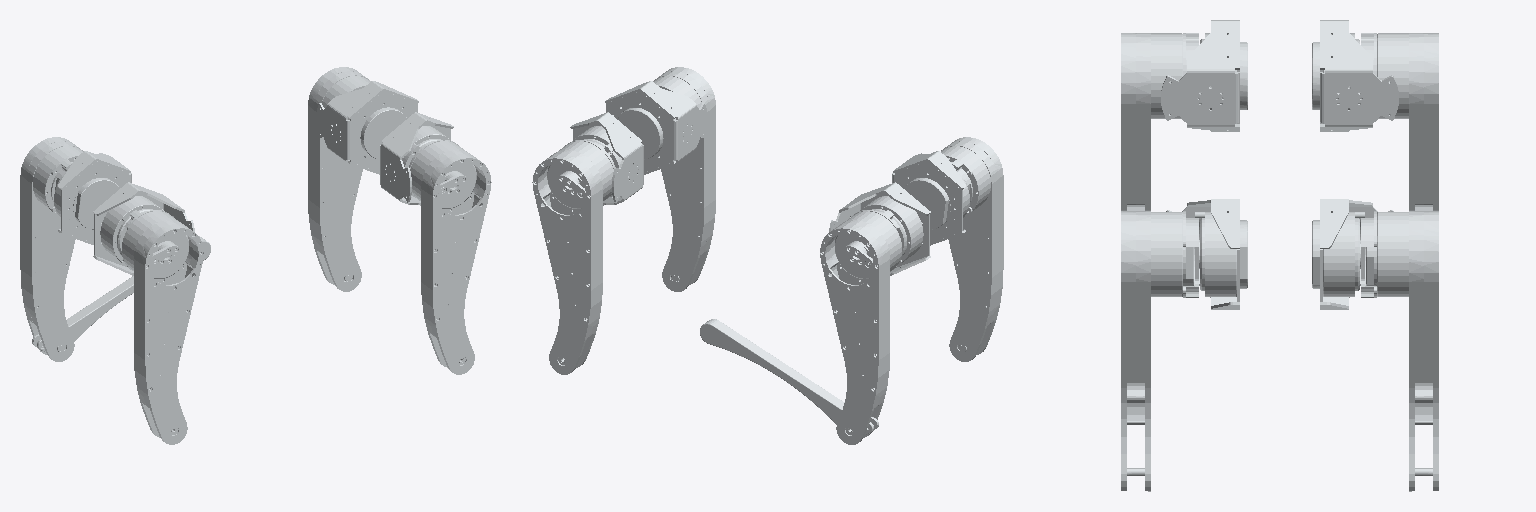
The robot description file, URDF, robot "mevius":
<?xml version="1.0" encoding="utf-8"?>
<!-- This URDF was automatically created by SolidWorks to URDF Exporter! Originally created by [author] ([email redacted]) 
     Commit Version: 1.6.0-1-g15f4949  Build Version: 1.6.7594.29634
     For more information, please see http://wiki.ros.org/sw_urdf_exporter -->
<robot
  name="mevius">
  <link
    name="base_link">
    <inertial>
      <origin
        xyz="-0.00288686344144184 0.00107022785703442 0.0628887711129525"
        rpy="0 0 0" />
      <mass
        value="7.46950563423809" />
      <inertia
        ixx="0.0225470144173874"
        ixy="6.77338278057453E-05"
        ixz="1.3345156658201E-05"
        iyy="0.0141949429794967"
        iyz="-0.000150290491462575"
        izz="0.0262581265108455" />
    </inertial>
    <visual>
      <origin
        xyz="0 0 0"
        rpy="0 0 0" />
      <geometry>
        <mesh
          filename="package://mevius/models/meshes/base_link.STL" />
      </geometry>
      <material
        name="">
        <color
          rgba="0.898039215686275 0.917647058823529 0.929411764705882 1" />
      </material>
    </visual>
    <collision>
      <origin
        xyz="0 0 0"
        rpy="0 0 0" />
      <geometry>
        <mesh
          filename="package://mevius/models/meshes/base_link.STL" />
      </geometry>
    </collision>
  </link>
  <link
    name="FR_scapula_link">
    <inertial>
      <origin
        xyz="0.0516252305401659 0.0119000363955649 0.000134643082608681"
        rpy="0 0 0" />
      <mass
        value="0.79238908220585" />
      <inertia
        ixx="0.000663847662717084"
        ixy="-4.9368919369038E-05"
        ixz="-2.95042745376549E-07"
        iyy="0.000948238273558436"
        iyz="1.97899135325603E-07"
        izz="0.00062428850657169" />
    </inertial>
    <visual>
      <origin
        xyz="0 0 0"
        rpy="0 0 0" />
      <geometry>
        <mesh
          filename="package://mevius/models/meshes/FR_scapula_link.STL" />
      </geometry>
      <material
        name="">
        <color
          rgba="0.898039215686275 0.917647058823529 0.929411764705882 1" />
      </material>
    </visual>
    <collision>
      <origin
        xyz="0 0 0"
        rpy="0 0 0" />
      <geometry>
        <mesh
          filename="package://mevius/models/meshes/FR_scapula_link.STL" />
      </geometry>
    </collision>
  </link>
  <joint
    name="FR_collar"
    type="revolute">
    <origin
      xyz="0.16405000000001 -0.0720000000000002 0.056500000000002"
      rpy="0 0 0" />
    <parent
      link="base_link" />
    <child
      link="FR_scapula_link" />
    <axis
      xyz="1 0 0" />
    <limit
      lower="-0.7854"
      upper="0.7854"
      effort="25"
      velocity="500" />
  </joint>
  <link
    name="FR_thigh_link">
    <inertial>
      <origin
        xyz="-0.00458315732717235 -0.0450237251724228 -0.0462116341919131"
        rpy="0 0 0" />
      <mass
        value="1.28036049228712" />
      <inertia
        ixx="0.00466271860164795"
        ixy="6.08454654912399E-07"
        ixz="-8.7501983148644E-05"
        iyy="0.00514577751083402"
        iyz="-3.37691413998436E-06"
        izz="0.000733246177400886" />
    </inertial>
    <visual>
      <origin
        xyz="0 0 0"
        rpy="0 0 0" />
      <geometry>
        <mesh
          filename="package://mevius/models/meshes/FR_thigh_link.STL" />
      </geometry>
      <material
        name="">
        <color
          rgba="0.898039215686275 0.917647058823529 0.929411764705882 1" />
      </material>
    </visual>
    <collision>
      <origin
        xyz="0 0 0"
        rpy="0 0 0" />
      <geometry>
        <mesh
          filename="package://mevius/models/meshes/FR_thigh_link.STL" />
      </geometry>
    </collision>
  </link>
  <joint
    name="FR_hip"
    type="revolute">
    <origin
      xyz="0.0555000000000021 -0.01205000000001 0"
      rpy="0 0 0" />
    <parent
      link="FR_scapula_link" />
    <child
      link="FR_thigh_link" />
    <axis
      xyz="0 1 0" />
    <limit
      lower="-1.5708"
      upper="1.5708"
      effort="25"
      velocity="500" />
  </joint>
  <link
    name="FR_calf_link">
    <inertial>
      <origin
        xyz="0.0061876 6.3449E-06 -0.096548"
        rpy="0 0 0" />
      <mass
        value="0.081966" />
      <inertia
        ixx="0.00045503"
        ixy="-4.1351E-09"
        ixz="-3.6374E-06"
        iyy="0.00045719"
        iyz="-7.3411E-08"
        izz="5.92E-06" />
    </inertial>
    <visual>
      <origin
        xyz="0 0 0"
        rpy="0 0 0" />
      <geometry>
        <mesh
          filename="package://mevius/models/meshes/FR_calf_link.STL" />
      </geometry>
      <material
        name="">
        <color
          rgba="0.898039215686275 0.917647058823529 0.929411764705882 1" />
      </material>
    </visual>
    <collision>
      <origin
        xyz="0 0 0"
        rpy="0 0 0" />
      <geometry>
        <mesh
          filename="package://mevius/models/meshes/FR_calf_link.STL" />
      </geometry>
    </collision>
  </link>
  <joint
    name="FR_knee"
    type="revolute">
    <origin
      xyz="0 -0.06555000000001 -0.250000000000004"
      rpy="0 0 0" />
    <parent
      link="FR_thigh_link" />
    <child
      link="FR_calf_link" />
    <axis
      xyz="0 1 0" />
    <!-- upper: "-0.7095" to "-1.0" -->
    <limit
      lower="-2.8856"
      upper="-1.0"
      effort="25"
      velocity="500" />
  </joint>
  <link
    name="FL_scapula_link">
    <inertial>
      <origin
        xyz="0.0516252305401659 -0.0119000363955648 0.000157365462420407"
        rpy="0 0 0" />
      <mass
        value="0.792389082205849" />
      <inertia
        ixx="0.000663847662717087"
        ixy="4.93689193690379E-05"
        ixz="-8.50139610992199E-07"
        iyy="0.000948238273558436"
        iyz="1.9750355102701E-07"
        izz="0.00062428850657169" />
    </inertial>
    <visual>
      <origin
        xyz="0 0 0"
        rpy="0 0 0" />
      <geometry>
        <mesh
          filename="package://mevius/models/meshes/FL_scapula_link.STL" />
      </geometry>
      <material
        name="">
        <color
          rgba="0.898039215686275 0.917647058823529 0.929411764705882 1" />
      </material>
    </visual>
    <collision>
      <origin
        xyz="0 0 0"
        rpy="0 0 0" />
      <geometry>
        <mesh
          filename="package://mevius/models/meshes/FL_scapula_link.STL" />
      </geometry>
    </collision>
  </link>
  <joint
    name="FL_collar"
    type="revolute">
    <origin
      xyz="0.16405000000001 0.0719999999999999 0.0565000346699527"
      rpy="0 0 0" />
    <parent
      link="base_link" />
    <child
      link="FL_scapula_link" />
    <axis
      xyz="1 0 0" />
    <limit
      lower="-0.7854"
      upper="0.7854"
      effort="25"
      velocity="500" />
  </joint>
  <link
    name="FL_thigh_link">
    <inertial>
      <origin
        xyz="-0.0045959954184496 0.0450237251724227 -0.046226339333429"
        rpy="0 0 0" />
      <mass
        value="1.28036049228712" />
      <inertia
        ixx="0.00466307567078295"
        ixy="-5.39808976991609E-07"
        ixz="-8.89894514680999E-05"
        iyy="0.00514577751083402"
        iyz="3.72527450770942E-06"
        izz="0.000732889108265882" />
    </inertial>
    <visual>
      <origin
        xyz="0 0 0"
        rpy="0 0 0" />
      <geometry>
        <mesh
          filename="package://mevius/models/meshes/FL_thigh_link.STL" />
      </geometry>
      <material
        name="">
        <color
          rgba="0.898039215686275 0.917647058823529 0.929411764705882 1" />
      </material>
    </visual>
    <collision>
      <origin
        xyz="0 0 0"
        rpy="0 0 0" />
      <geometry>
        <mesh
          filename="package://mevius/models/meshes/FL_thigh_link.STL" />
      </geometry>
    </collision>
  </link>
  <joint
    name="FL_hip"
    type="revolute">
    <origin
      xyz="0.0555000000000055 0.01205000000001 0"
      rpy="0 0 0" />
    <parent
      link="FL_scapula_link" />
    <child
      link="FL_thigh_link" />
    <axis
      xyz="0 1 0" />
    <limit
      lower="-1.5708"
      upper="1.5708"
      effort="25"
      velocity="500" />
  </joint>
  <link
    name="FL_calf_link">
    <inertial>
      <origin
        xyz="0.0061876 6.3449E-06 -0.096548"
        rpy="0 0 0" />
      <mass
        value="0.081966" />
      <inertia
        ixx="0.00045503"
        ixy="-4.1351E-09"
        ixz="-3.6374E-06"
        iyy="0.00045719"
        iyz="-7.3411E-08"
        izz="5.92E-06" />
    </inertial>
    <visual>
      <origin
        xyz="0 0 0"
        rpy="0 0 0" />
      <geometry>
        <mesh
          filename="package://mevius/models/meshes/FL_calf_link.STL" />
      </geometry>
      <material
        name="">
        <color
          rgba="0.898039215686275 0.917647058823529 0.929411764705882 1" />
      </material>
    </visual>
    <collision>
      <origin
        xyz="0 0 0"
        rpy="0 0 0" />
      <geometry>
        <mesh
          filename="package://mevius/models/meshes/FL_calf_link.STL" />
      </geometry>
    </collision>
  </link>
  <joint
    name="FL_knee"
    type="revolute">
    <origin
      xyz="0 0.06555000000001 -0.249999999999998"
      rpy="0 0 0" />
    <parent
      link="FL_thigh_link" />
    <child
      link="FL_calf_link" />
    <axis
      xyz="0 1 0" />
    <!-- upper: "-0.7095" to "-1.0" -->
    <limit
      lower="-2.8856"
      upper="-1.0"
      effort="25"
      velocity="500" />
  </joint>
  <link
    name="BR_scapula_link">
    <inertial>
      <origin
        xyz="-0.051625 0.0119 -0.00013464"
        rpy="0 0 0" />
      <mass
        value="0.79239" />
      <inertia
        ixx="0.00066385"
        ixy="4.9369E-05"
        ixz="-2.9504E-07"
        iyy="0.00094824"
        iyz="-1.979E-07"
        izz="0.00062429" />
    </inertial>
    <visual>
      <origin
        xyz="0 0 0"
        rpy="0 0 0" />
      <geometry>
        <mesh
          filename="package://mevius/models/meshes/BR_scapula_link.STL" />
      </geometry>
      <material
        name="">
        <color
          rgba="0.898039215686275 0.917647058823529 0.929411764705882 1" />
      </material>
    </visual>
    <collision>
      <origin
        xyz="0 0 0"
        rpy="0 0 0" />
      <geometry>
        <mesh
          filename="package://mevius/models/meshes/BR_scapula_link.STL" />
      </geometry>
    </collision>
  </link>
  <joint
    name="BR_collar"
    type="revolute">
    <origin
      xyz="-0.16405000000001 -0.0719999999999995 0.0565000000000019"
      rpy="0 0 0" />
    <parent
      link="base_link" />
    <child
      link="BR_scapula_link" />
    <axis
      xyz="1 0 0" />
    <limit
      lower="-0.7854"
      upper="0.7854"
      effort="25"
      velocity="500" />
  </joint>
  <link
    name="BR_thigh_link">
    <inertial>
      <origin
        xyz="-0.0038406 -0.045024 -0.046019"
        rpy="0 0 0" />
      <mass
        value="1.2804" />
      <inertia
        ixx="0.004663"
        ixy="-8.4434E-07"
        ixz="-8.8799E-05"
        iyy="0.0051458"
        iyz="-3.5662E-06"
        izz="0.00073299" />
    </inertial>
    <visual>
      <origin
        xyz="0 0 0"
        rpy="0 0 0" />
      <geometry>
        <mesh
          filename="package://mevius/models/meshes/BR_thigh_link.STL" />
      </geometry>
      <material
        name="">
        <color
          rgba="0.898039215686275 0.917647058823529 0.929411764705882 1" />
      </material>
    </visual>
    <collision>
      <origin
        xyz="0 0 0"
        rpy="0 0 0" />
      <geometry>
        <mesh
          filename="package://mevius/models/meshes/BR_thigh_link.STL" />
      </geometry>
    </collision>
  </link>
  <joint
    name="BR_hip"
    type="revolute">
    <origin
      xyz="-0.0555000000000055 -0.01205000000001 0"
      rpy="0 0 0" />
    <parent
      link="BR_scapula_link" />
    <child
      link="BR_thigh_link" />
    <axis
      xyz="0 1 0" />
    <limit
      lower="-1.5708"
      upper="1.5708"
      effort="25"
      velocity="500" />
  </joint>
  <link
    name="BR_calf_link">
    <inertial>
      <origin
        xyz="0.0061876 6.3449E-06 -0.096548"
        rpy="0 0 0" />
      <mass
        value="0.081966" />
      <inertia
        ixx="0.00045503"
        ixy="-4.1351E-09"
        ixz="-3.6374E-06"
        iyy="0.00045719"
        iyz="-7.3411E-08"
        izz="5.92E-06" />
    </inertial>
    <visual>
      <origin
        xyz="0 0 0"
        rpy="0 0 0" />
      <geometry>
        <mesh
          filename="package://mevius/models/meshes/BR_calf_link.STL" />
      </geometry>
      <material
        name="">
        <color
          rgba="0.898039215686275 0.917647058823529 0.929411764705882 1" />
      </material>
    </visual>
    <collision>
      <origin
        xyz="0 0 0"
        rpy="0 0 0" />
      <geometry>
        <mesh
          filename="package://mevius/models/meshes/BR_calf_link.STL" />
      </geometry>
    </collision>
  </link>
  <joint
    name="BR_knee"
    type="revolute">
    <origin
      xyz="0 -0.0655500000000101 -0.249999999999997"
      rpy="0 0 0" />
    <parent
      link="BR_thigh_link" />
    <child
      link="BR_calf_link" />
    <axis
      xyz="0 1 0" />
    <!-- upper: "-0.7095" to "-1.0" -->
    <limit
      lower="-2.8856"
      upper="-1.0"
      effort="25"
      velocity="500" />
  </joint>
  <link
    name="BL_scapula_link">
    <inertial>
      <origin
        xyz="-0.0516252305401659 -0.0119000363955648 -0.000157365462420601"
        rpy="0 0 0" />
      <mass
        value="0.792389082205849" />
      <inertia
        ixx="0.000663847662717084"
        ixy="-4.93689193690379E-05"
        ixz="-8.50139610991644E-07"
        iyy="0.000948238273558437"
        iyz="-1.97503551027001E-07"
        izz="0.000624288506571688" />
    </inertial>
    <visual>
      <origin
        xyz="0 0 0"
        rpy="0 0 0" />
      <geometry>
        <mesh
          filename="package://mevius/models/meshes/BL_scapula_link.STL" />
      </geometry>
      <material
        name="">
        <color
          rgba="0.898039215686275 0.917647058823529 0.929411764705882 1" />
      </material>
    </visual>
    <collision>
      <origin
        xyz="0 0 0"
        rpy="0 0 0" />
      <geometry>
        <mesh
          filename="package://mevius/models/meshes/BL_scapula_link.STL" />
      </geometry>
    </collision>
  </link>
  <joint
    name="BL_collar"
    type="revolute">
    <origin
      xyz="-0.16405000000001 0.0719999999999999 0.0564999653300497"
      rpy="0 0 0" />
    <parent
      link="base_link" />
    <child
      link="BL_scapula_link" />
    <axis
      xyz="1 0 0" />
    <limit
      lower="-0.7854"
      upper="0.7854"
      effort="25"
      velocity="500" />
  </joint>
  <link
    name="BL_thigh_link">
    <inertial>
      <origin
        xyz="-0.00390161717030679 0.0450237251724227 -0.0460663202075131"
        rpy="0 0 0" />
      <mass
        value="1.28036049228712" />
      <inertia
        ixx="0.00466272221096624"
        ixy="9.12989444199061E-07"
        ixz="-8.72356243582126E-05"
        iyy="0.00514577751083403"
        iyz="3.12373693962634E-06"
        izz="0.000733242568082601" />
    </inertial>
    <visual>
      <origin
        xyz="0 0 0"
        rpy="0 0 0" />
      <geometry>
        <mesh
          filename="package://mevius/models/meshes/BL_thigh_link.STL" />
      </geometry>
      <material
        name="">
        <color
          rgba="0.898039215686275 0.917647058823529 0.929411764705882 1" />
      </material>
    </visual>
    <collision>
      <origin
        xyz="0 0 0"
        rpy="0 0 0" />
      <geometry>
        <mesh
          filename="package://mevius/models/meshes/BL_thigh_link.STL" />
      </geometry>
    </collision>
  </link>
  <joint
    name="BL_hip"
    type="revolute">
    <origin
      xyz="-0.0555000000000055 0.01205000000001 0"
      rpy="0 0 0" />
    <parent
      link="BL_scapula_link" />
    <child
      link="BL_thigh_link" />
    <axis
      xyz="0 1 0" />
    <limit
      lower="-1.5708"
      upper="1.5708"
      effort="25"
      velocity="500" />
  </joint>
  <link
    name="BL_calf_link">
    <inertial>
      <origin
        xyz="0.00618759954847875 6.34493544132697E-06 -0.0965481635934385"
        rpy="0 0 0" />
      <mass
        value="0.0819657771505335" />
      <inertia
        ixx="0.000455029962126553"
        ixy="-4.13510569780358E-09"
        ixz="-3.63738626871361E-06"
        iyy="0.000457192801864513"
        iyz="-7.34108614427503E-08"
        izz="5.91998101823404E-06" />
    </inertial>
    <visual>
      <origin
        xyz="0 0 0"
        rpy="0 0 0" />
      <geometry>
        <mesh
          filename="package://mevius/models/meshes/BL_calf_link.STL" />
      </geometry>
      <material
        name="">
        <color
          rgba="0.898039215686275 0.917647058823529 0.929411764705882 1" />
      </material>
    </visual>
    <collision>
      <origin
        xyz="0 0 0"
        rpy="0 0 0" />
      <geometry>
        <mesh
          filename="package://mevius/models/meshes/BL_calf_link.STL" />
      </geometry>
    </collision>
  </link>
  <joint
    name="BL_knee"
    type="revolute">
    <origin
      xyz="0 0.06555 -0.25"
      rpy="0 0 0" />
    <parent
      link="BL_thigh_link" />
    <child
      link="BL_calf_link" />
    <axis
      xyz="0 1 0" />
    <!-- upper: "-0.7095" to "-1.0" -->
    <limit
      lower="-2.8856"
      upper="-1.0"
      effort="25"
      velocity="500" />
  </joint>
</robot>

--- What the picture shows (computed from the rendered views, not written in the file) ---
3 views of the same robot in one strip: view 1: azimuth 30°, elevation 25°; view 2: azimuth 150°, elevation 25°; view 3: azimuth 270°, elevation 25° (orthographic).
Model mevius with 13 links and 12 joints (12 revolute), rooted at base_link, posed joints at zero except 4 at the middle of their limits (FR_knee = -1.94, FL_knee = -1.94, BR_knee = -1.94, BL_knee = -1.94).
Visible links, largest first — view 1: BR_thigh_link, FR_thigh_link, BL_thigh_link, FL_thigh_link, FL_scapula_link, BL_scapula_link, BR_scapula_link, FR_scapula_link, BL_calf_link; view 2: FL_thigh_link, BL_thigh_link, BR_thigh_link, FR_thigh_link, FR_scapula_link, BR_scapula_link, BL_scapula_link, FL_scapula_link, BL_calf_link; view 3: FR_thigh_link, FL_thigh_link, BR_thigh_link, BL_thigh_link, BR_scapula_link, BL_scapula_link, FR_scapula_link, FL_scapula_link.
Link boxes in pixels (x1,y1,x2,y2): BR_thigh_link: [122, 210, 203, 444]; FR_thigh_link: [409, 140, 491, 374]; BL_thigh_link: [20, 137, 83, 361]; FL_thigh_link: [308, 67, 370, 291]; FL_scapula_link: [317, 81, 418, 174]; BL_scapula_link: [54, 151, 131, 244]; BR_scapula_link: [93, 182, 194, 275]; FR_scapula_link: [380, 112, 453, 205]; BL_calf_link: [32, 236, 210, 351]; FL_thigh_link: [532, 140, 614, 374]; BL_thigh_link: [820, 210, 901, 444]; BR_thigh_link: [941, 137, 1003, 361]; FR_thigh_link: [653, 67, 715, 291]; FR_scapula_link: [605, 81, 706, 174]; BR_scapula_link: [892, 151, 969, 245]; BL_scapula_link: [829, 182, 930, 275]; FL_scapula_link: [570, 112, 643, 205]; BL_calf_link: [700, 319, 878, 434]; FR_thigh_link: [1121, 211, 1198, 491]; FL_thigh_link: [1361, 211, 1438, 491]; BR_thigh_link: [1121, 33, 1198, 210]; BL_thigh_link: [1361, 33, 1438, 210]; BR_scapula_link: [1161, 20, 1247, 131]; BL_scapula_link: [1312, 20, 1398, 131]; FR_scapula_link: [1166, 199, 1247, 309]; FL_scapula_link: [1312, 199, 1393, 309].
Size in the robot's own frame: 0.5471 by 0.3302 by 0.3335 metres.
Meshes: 13 distinct files referenced, 9 mesh visuals loaded (9 binary STL); not drawn: 4 (reference not matched to a file when rendering).
